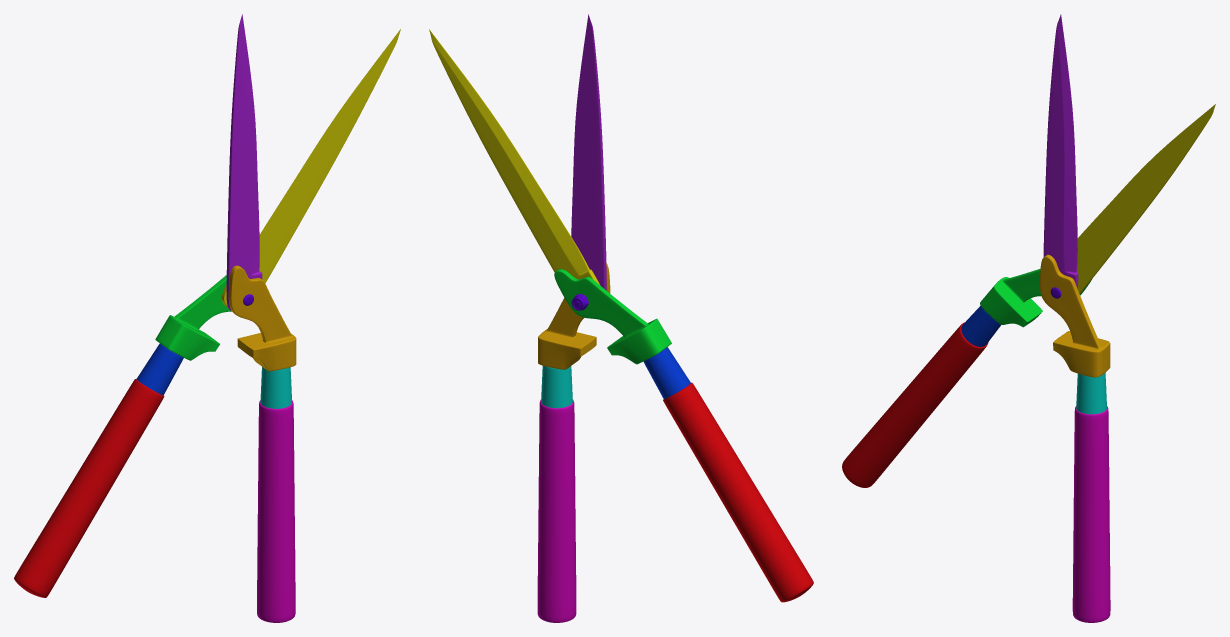
3 renders of one model, left to right at view 1: azimuth 30°, elevation 25°; view 2: azimuth 150°, elevation 25°; view 3: azimuth 330°, elevation 25°, orthographic. The views are drawn at different scales.
Parts seen in each view (by area): view 1: blade_L, blade_R; view 2: blade_R, blade_L; view 3: blade_L, blade_R.
Boxes of the visible parts, box(x1,y1,x2,y2) form: blade_L: box(226, 14, 296, 622); blade_R: box(14, 29, 400, 597); blade_R: box(429, 29, 813, 602); blade_L: box(537, 14, 610, 622); blade_L: box(1039, 14, 1110, 622); blade_R: box(842, 104, 1215, 487).
Size of the model in its own units: 37.66 by 57.59 by 3.84.
